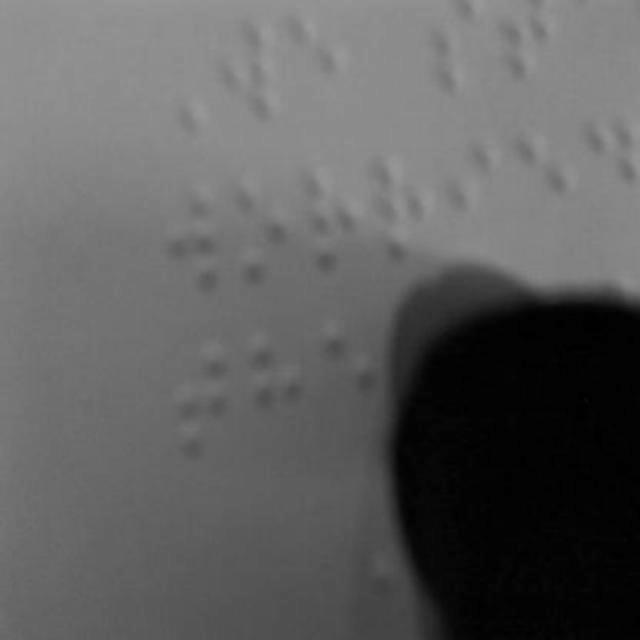braiile: (316, 312, 388, 452), (377, 139, 449, 271), (245, 327, 311, 471), (173, 327, 237, 471), (231, 162, 303, 288), (162, 176, 228, 312), (304, 146, 372, 278), (518, 120, 580, 258), (454, 132, 516, 260)
